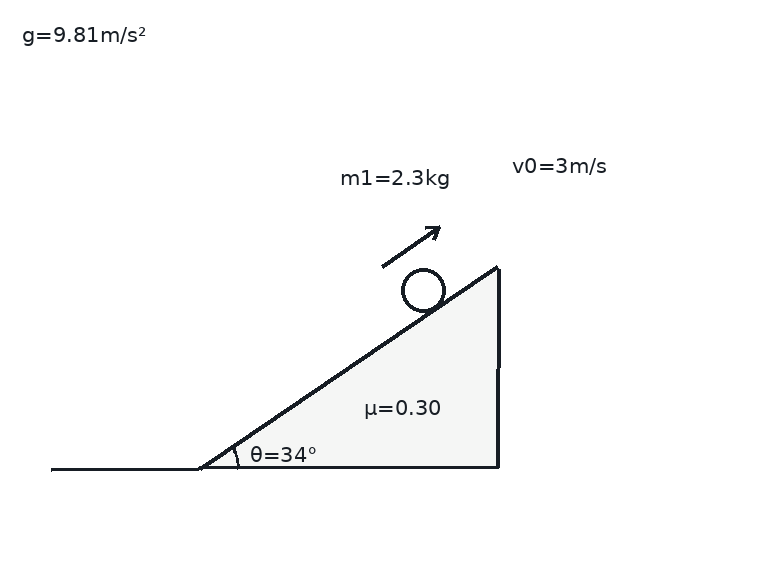ball: (399, 266, 447, 314)
ramp: (196, 264, 499, 470)
